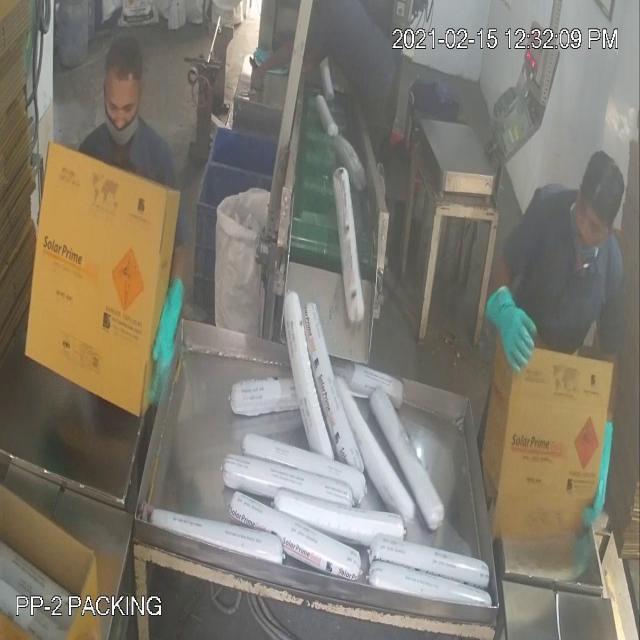Gloves: (47, 55, 511, 330)
